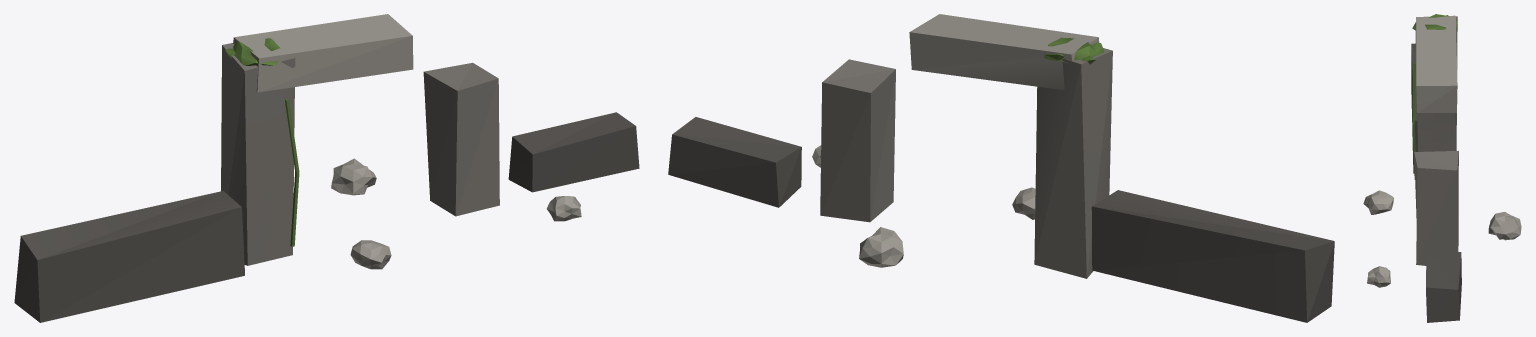
File: ruins.glb
The picture shows the model from 3 angles, left to right: view 1: azimuth 30°, elevation 25°; view 2: azimuth 150°, elevation 25°; view 3: azimuth 270°, elevation 25°; orthographic projection. The views are drawn at different scales.
Visible parts, largest first — view 1: ruins; view 2: ruins; view 3: ruins.
Boxes of the visible parts, x1,y1,x2,y2 form: ruins: [14, 14, 639, 322]; ruins: [668, 14, 1334, 322]; ruins: [1363, 14, 1521, 322].
Size of the model in its own units: 9.49 by 3.24 by 2.77.
